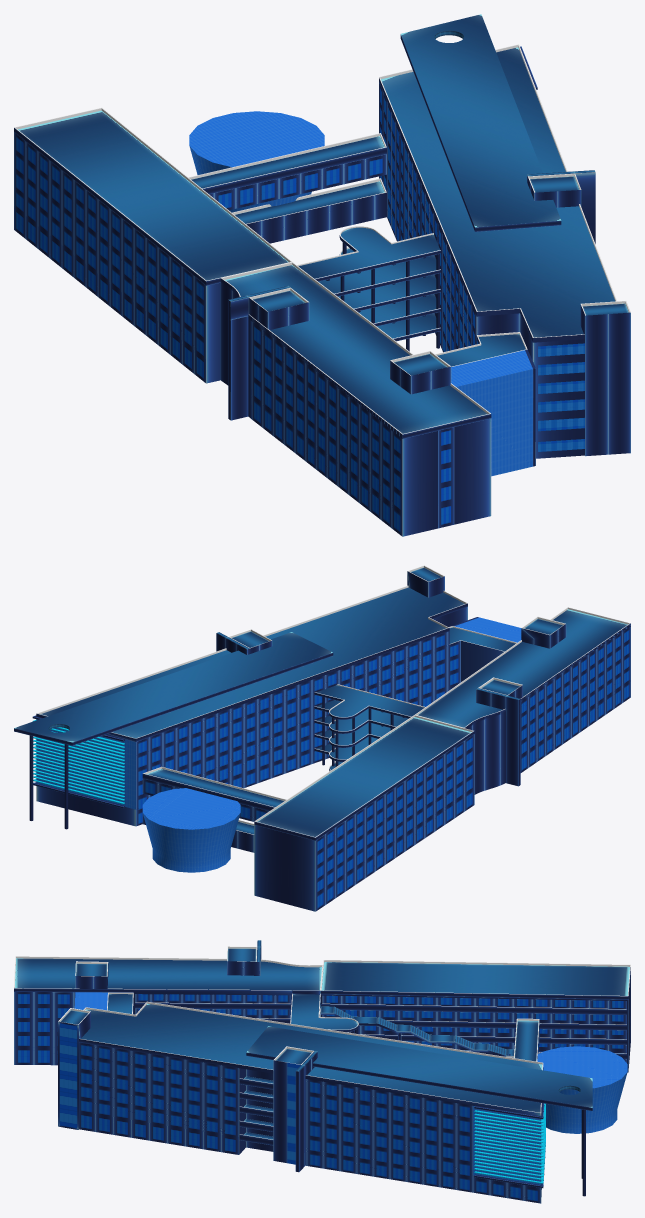
Rendered from 1hjxl.gltf.
3 renders of one model, top to bottom at view 1: azimuth 30°, elevation 25°; view 2: azimuth 150°, elevation 25°; view 3: azimuth 270°, elevation 25°, orthographic. The views are drawn at different scales.
Parts seen in each view (by area): view 1: Line008; view 2: Line008; view 3: Line008.
Boxes of the visible parts, bbox=[...] form: Line008: bbox=[14, 14, 630, 536]; Line008: bbox=[14, 565, 630, 911]; Line008: bbox=[14, 940, 630, 1203].
Bounding box in the file's own units: 108 × 30.31 × 161.
Materials: 8 (8 with a texture image).
